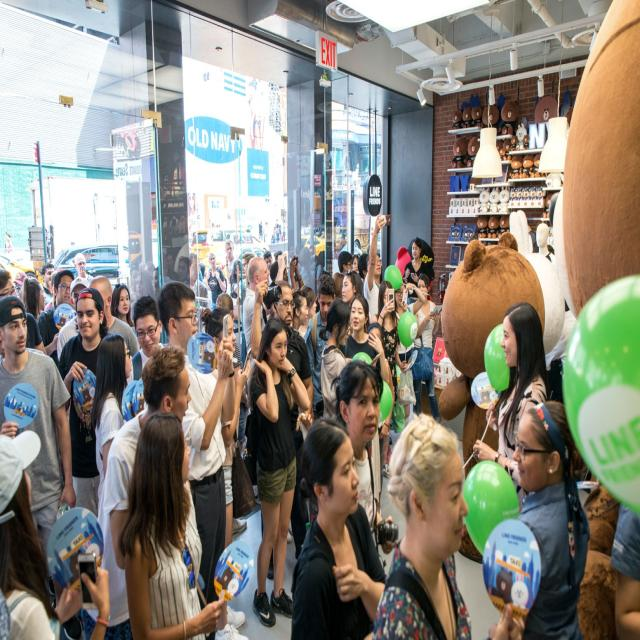body: (368, 408, 533, 640), (154, 279, 236, 640), (96, 343, 194, 640), (0, 292, 78, 639), (118, 408, 227, 640), (0, 427, 112, 640), (290, 413, 387, 640), (248, 316, 314, 633), (505, 399, 590, 640), (248, 275, 314, 582), (198, 304, 255, 640), (470, 300, 550, 517), (56, 285, 124, 522), (333, 358, 399, 557), (92, 333, 134, 515), (213, 290, 252, 459), (605, 471, 640, 640), (524, 194, 571, 319), (242, 255, 284, 387), (303, 272, 339, 423), (366, 320, 392, 516), (86, 274, 142, 362), (410, 272, 442, 424), (341, 293, 391, 387), (318, 294, 354, 424), (127, 255, 206, 309), (122, 294, 171, 380), (0, 272, 47, 359), (34, 267, 76, 362), (288, 272, 314, 412), (312, 274, 336, 421), (362, 211, 388, 326), (56, 276, 90, 362), (393, 278, 427, 363), (235, 249, 256, 368), (341, 268, 371, 337), (401, 236, 430, 307), (290, 243, 329, 291), (188, 252, 210, 334), (363, 249, 383, 324), (205, 251, 228, 313), (269, 254, 304, 293), (20, 275, 48, 321), (0, 578, 18, 640), (298, 284, 318, 339), (110, 282, 135, 326), (292, 288, 309, 336), (224, 238, 238, 294), (74, 252, 95, 284), (40, 262, 55, 306), (229, 258, 242, 300), (187, 190, 200, 227), (273, 255, 288, 285), (337, 250, 354, 276), (331, 271, 346, 300), (13, 270, 28, 299), (263, 250, 274, 288), (4, 230, 12, 260), (351, 254, 360, 274), (46, 230, 51, 262), (258, 220, 264, 243), (273, 250, 284, 261), (275, 222, 280, 242), (262, 221, 266, 244), (278, 224, 282, 245), (265, 221, 269, 240), (275, 218, 278, 232)
